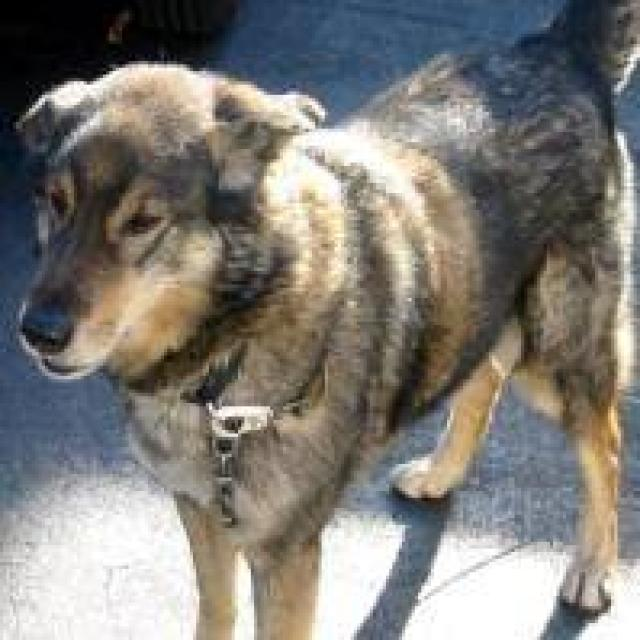Dog: (2, 46, 334, 405)
